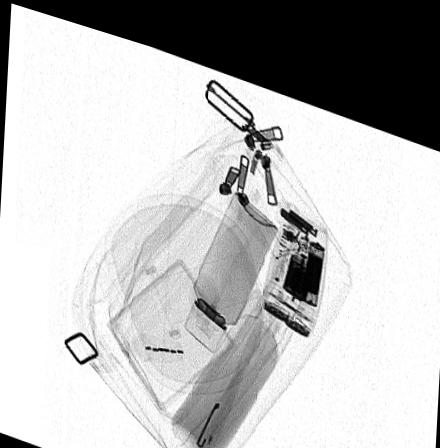Sprayer: (183, 178, 279, 343)
